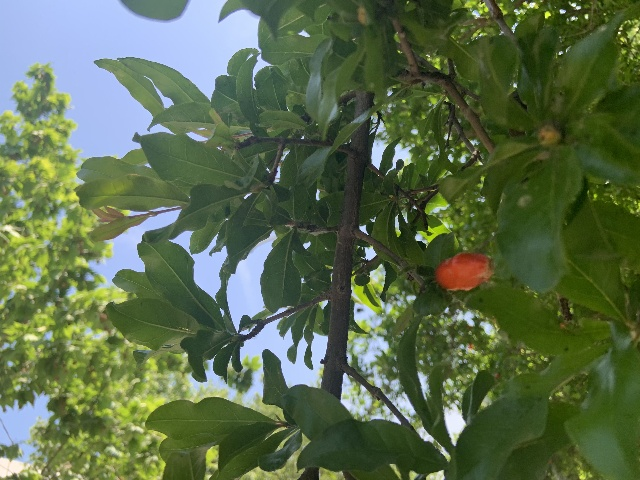bud: (434, 252, 493, 291)
